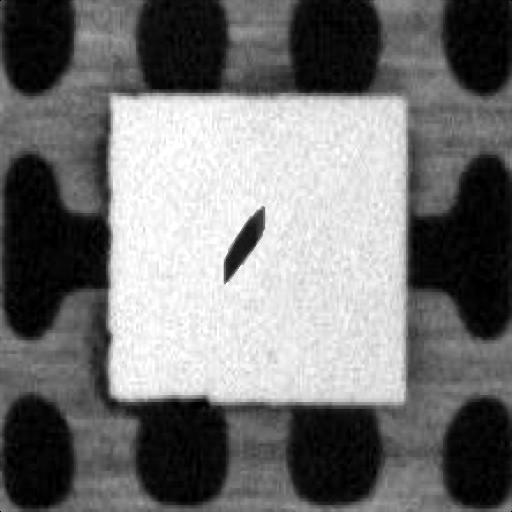DIE_INK: (219, 196, 263, 282)
